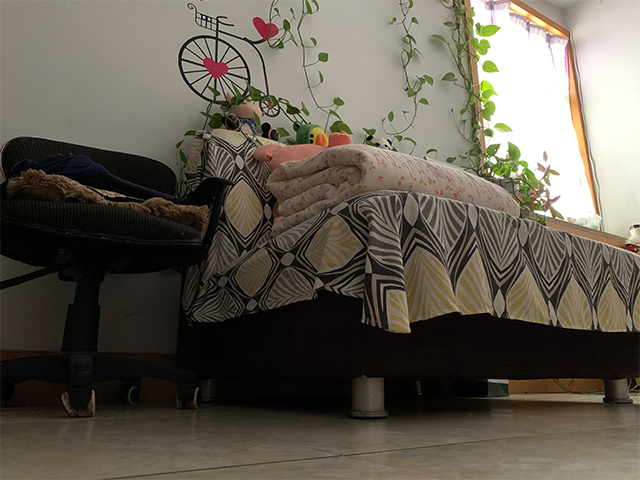sofa: (175, 125, 639, 423)
stool: (1, 135, 237, 419)
